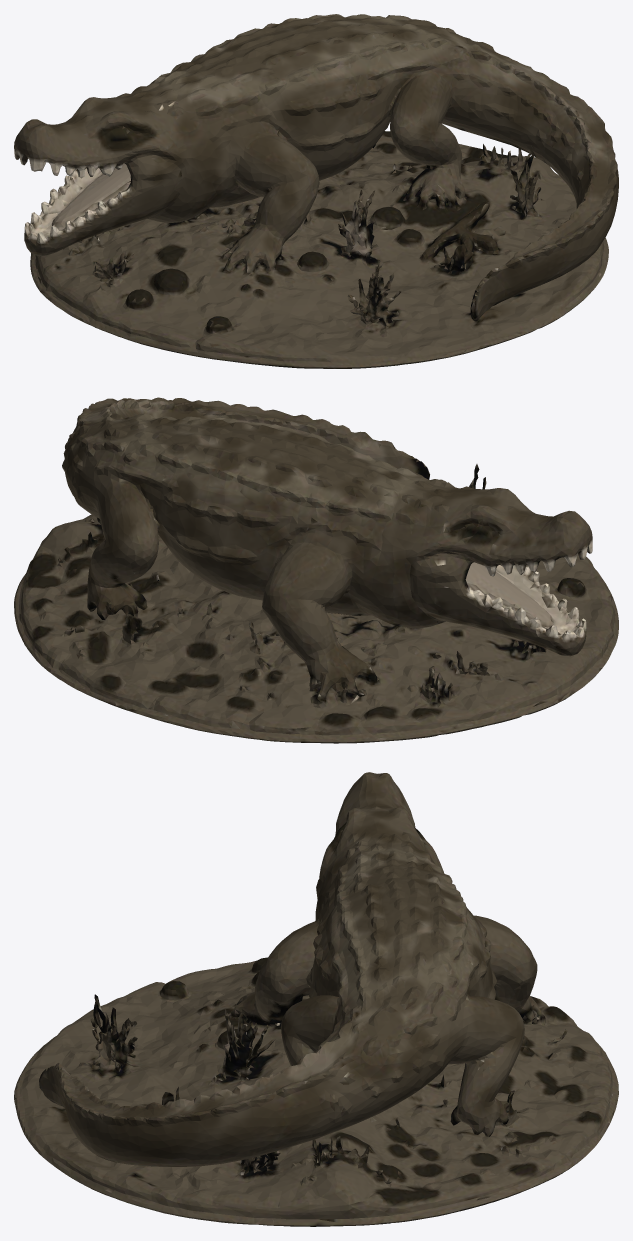
Rendered from crocodilo.glb.
The picture shows the model from 3 angles, top to bottom: view 1: azimuth 30°, elevation 25°; view 2: azimuth 150°, elevation 25°; view 3: azimuth 270°, elevation 25°; orthographic projection. The views are drawn at different scales.
Visible parts, largest first — view 1: tmp_e9nb9gr.ply; view 2: tmp_e9nb9gr.ply; view 3: tmp_e9nb9gr.ply.
Boxes of the visible parts, left/top/right/bottom form: tmp_e9nb9gr.ply: left=14, top=14, right=618, bottom=368; tmp_e9nb9gr.ply: left=14, top=397, right=618, bottom=743; tmp_e9nb9gr.ply: left=14, top=772, right=618, bottom=1226.
Size of the model in its own units: 1.96 by 0.6948 by 1.83.
Materials: 1 (1 with a texture image).
